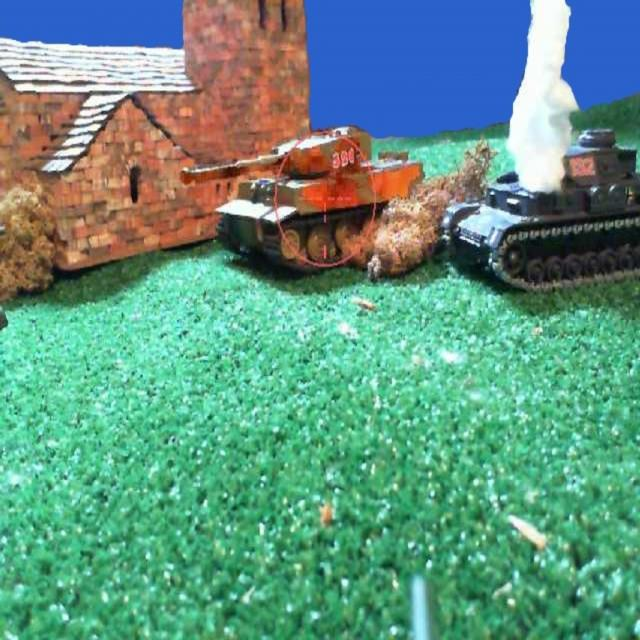tank: (178, 122, 426, 273), (438, 128, 638, 293)
